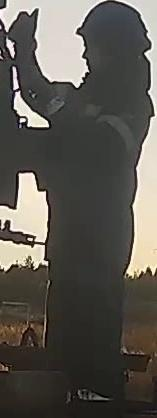gloves: (7, 7, 42, 65)
helmet: (74, 1, 153, 53)
vest: (49, 78, 148, 268)
